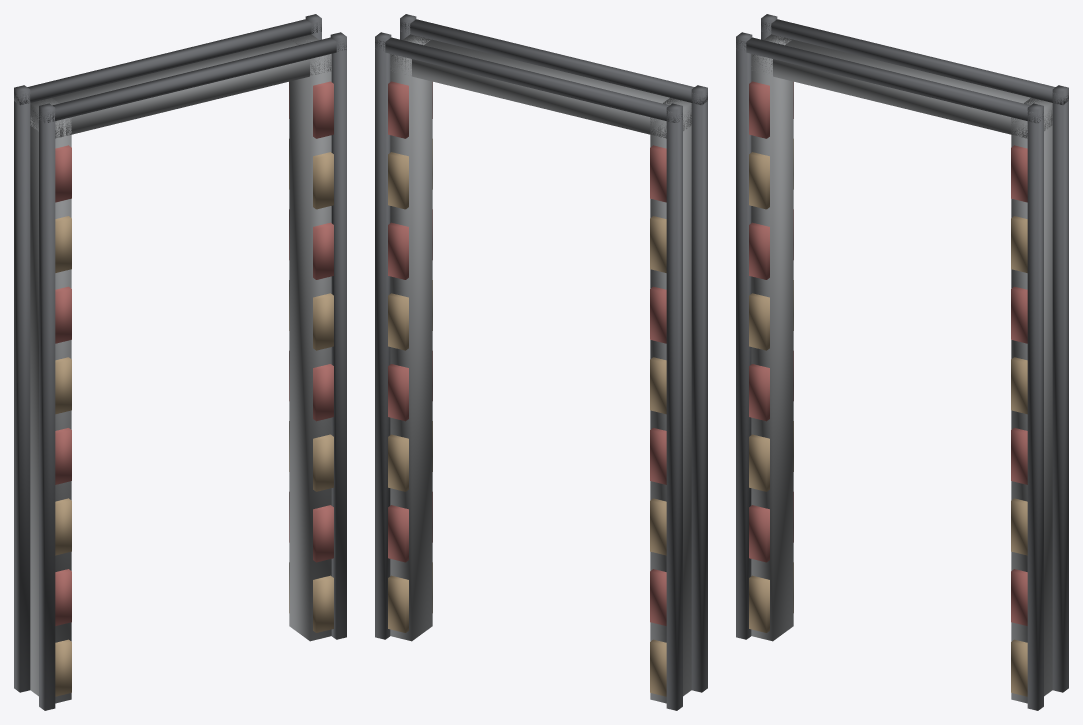
Rendered from doorway_brick_return_w106_h240_d16.glb.
The picture shows the model from 3 angles, left to right: view 1: azimuth 30°, elevation 25°; view 2: azimuth 150°, elevation 25°; view 3: azimuth 330°, elevation 25°; orthographic projection.
Parts seen in each view (by area): view 1: world; view 2: world; view 3: world.
Part boxes in pixels (x1,y1,x2,y2): world: (14, 14, 346, 710); world: (375, 14, 707, 710); world: (736, 14, 1068, 710).
Bounding box in the file's own units: 1.34 × 2.55 × 0.2378.
